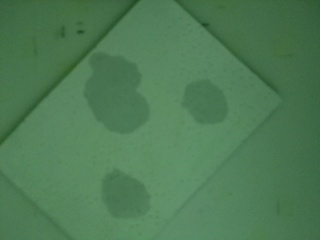Water_detected: (92, 72, 140, 131), (112, 177, 141, 208), (195, 94, 219, 116)
